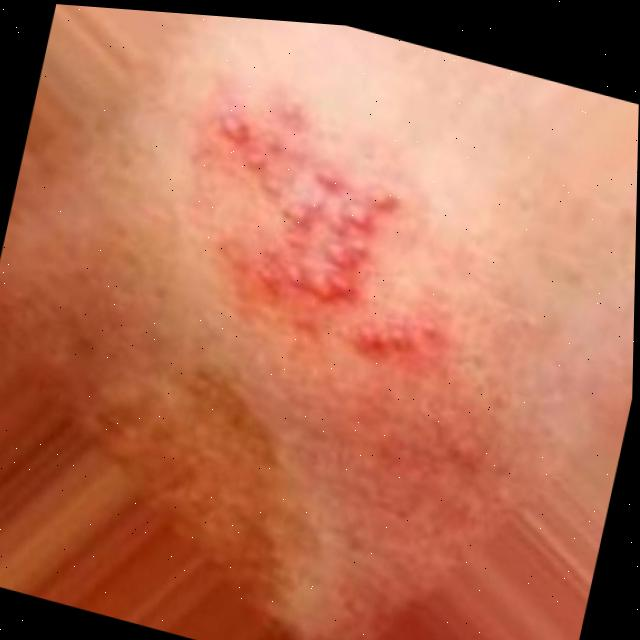Shingles: (162, 92, 474, 378)
